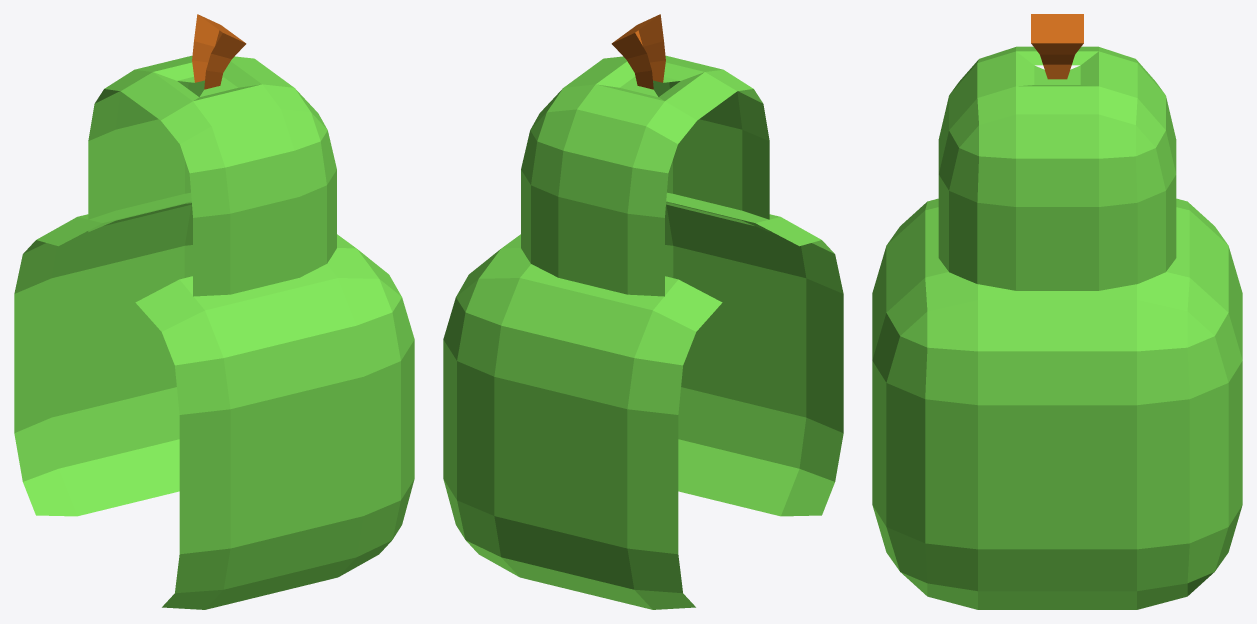
The model's file is pearDecimatedblend.fbx.
3 renders of one model, left to right at view 1: azimuth 30°, elevation 25°; view 2: azimuth 150°, elevation 25°; view 3: azimuth 270°, elevation 25°, orthographic. The views are drawn at different scales.
Visible parts, largest first — view 1: Cube, Cube.001; view 2: Cube, Cube.001; view 3: Cube, Cube.001.
Part boxes in pixels (x1,y1,x2,y2): Cube: (14, 192, 414, 609); Cube.001: (88, 14, 336, 296); Cube: (443, 192, 843, 609); Cube.001: (521, 14, 769, 296); Cube: (872, 198, 1242, 609); Cube.001: (938, 14, 1176, 290).
Bounding box in the file's own units: 215 × 415 × 251.
